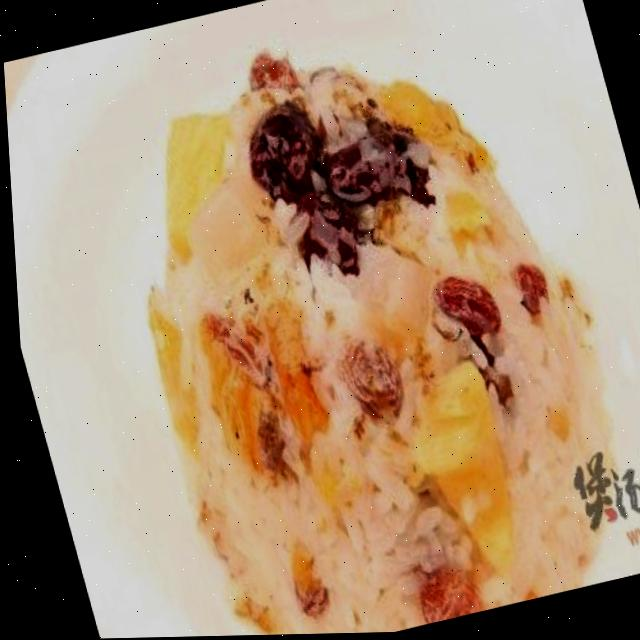米饭主食: (56, 0, 640, 639)
